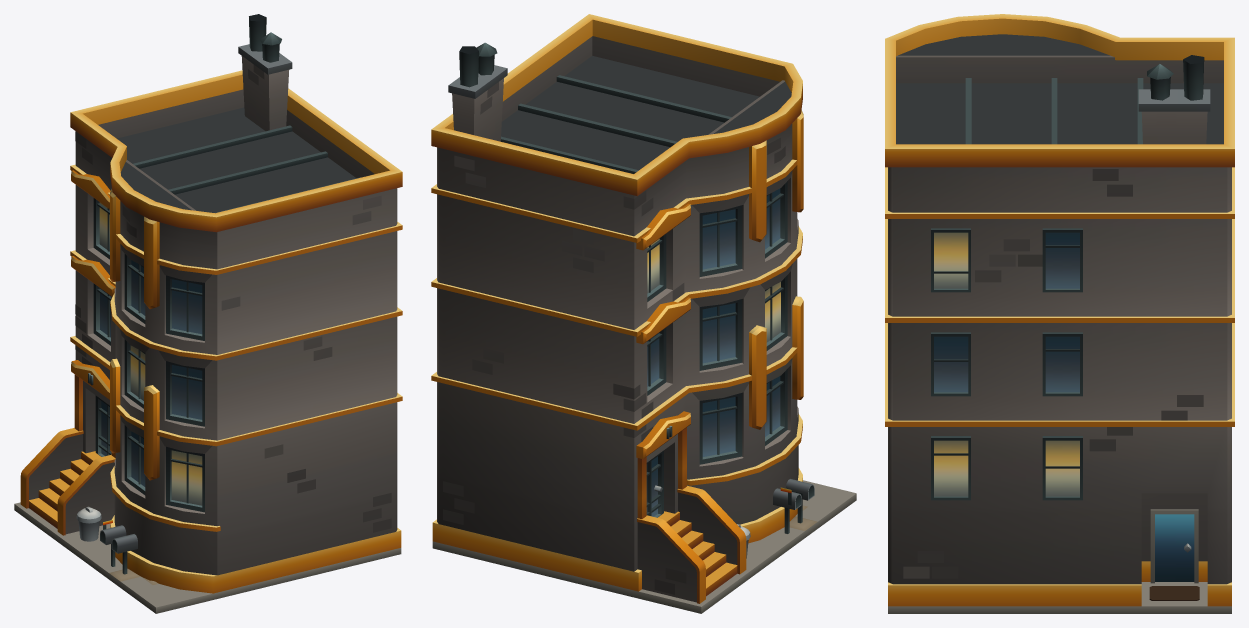
The model's file is Building_4B.fbx.
The picture shows the model from 3 angles, left to right: view 1: azimuth 30°, elevation 25°; view 2: azimuth 150°, elevation 25°; view 3: azimuth 270°, elevation 25°; orthographic projection. The views are drawn at different scales.
Visible parts, largest first — view 1: Building_4B, Window_Lights_4B; view 2: Building_4B, Window_Lights_4B; view 3: Building_4B, Window_Lights_4B.
Boxes of the visible parts, x1,y1,x2,y2 form: Building_4B: [14, 14, 402, 613]; Window_Lights_4B: [99, 202, 202, 505]; Building_4B: [431, 14, 856, 613]; Window_Lights_4B: [647, 238, 780, 342]; Building_4B: [885, 14, 1234, 613]; Window_Lights_4B: [934, 232, 1079, 496].
Bounding box in the file's own units: 1205 × 2093 × 1220.
